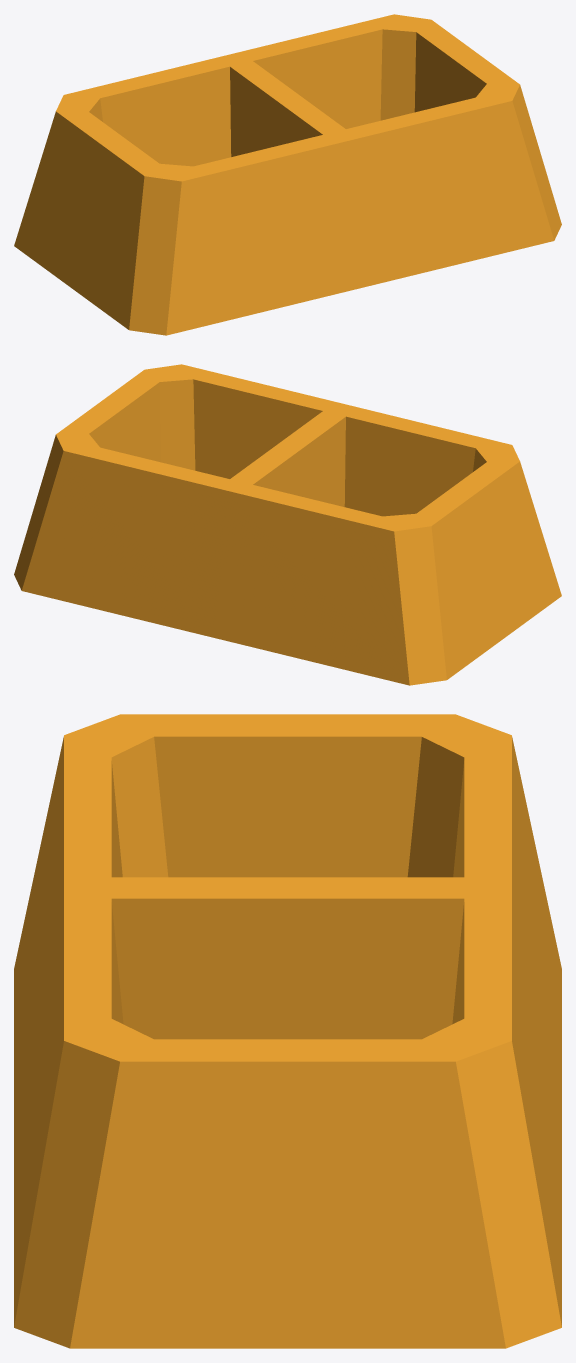
The model's file is SM_Bowl_Rabbit_B.fbx.
3 views of the same model, one above another, from view 1: azimuth 30°, elevation 25°; view 2: azimuth 150°, elevation 25°; view 3: azimuth 270°, elevation 25° (orthographic). The views are drawn at different scales.
Visible parts, largest first — view 1: bowl-rabbit-b; view 2: bowl-rabbit-b; view 3: bowl-rabbit-b.
Part boxes in pixels (x1,y1,x2,y2): bowl-rabbit-b: (14, 14, 561, 335); bowl-rabbit-b: (14, 364, 561, 685); bowl-rabbit-b: (14, 714, 561, 1348).
Size of the model in its own units: 0.2999 by 0.091 by 0.1735.
